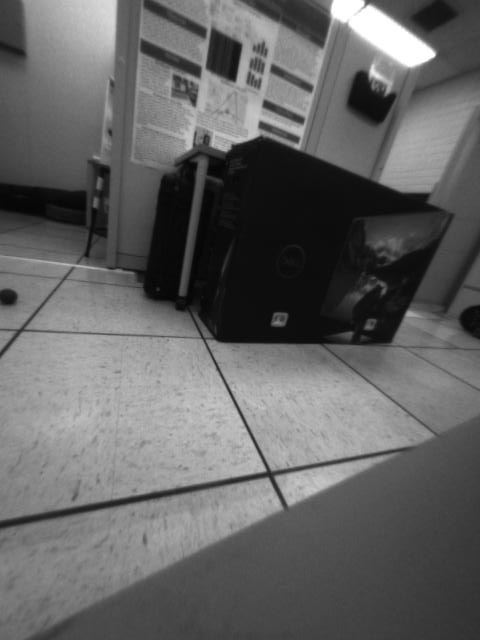dogtoy: (1, 280, 24, 311)
